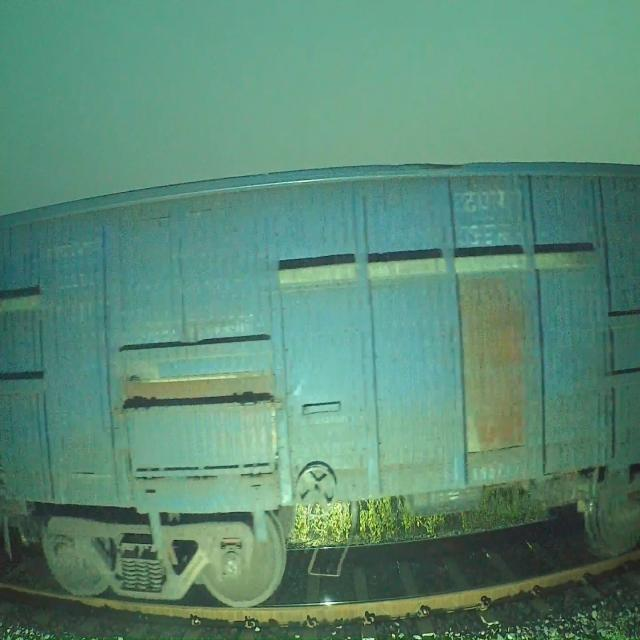WAgon-uic: (0, 159, 640, 605)
